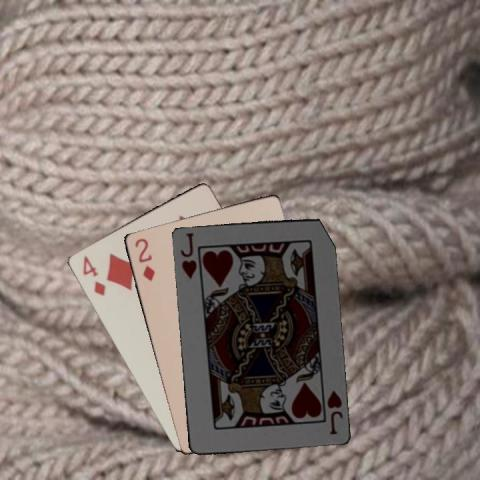2d: (131, 235, 156, 283)
4d: (79, 253, 107, 297)
Jh: (177, 229, 198, 281), (323, 387, 344, 436)
